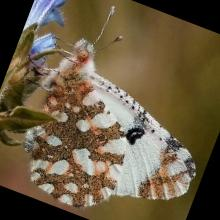butterfly: (23, 40, 196, 208)
